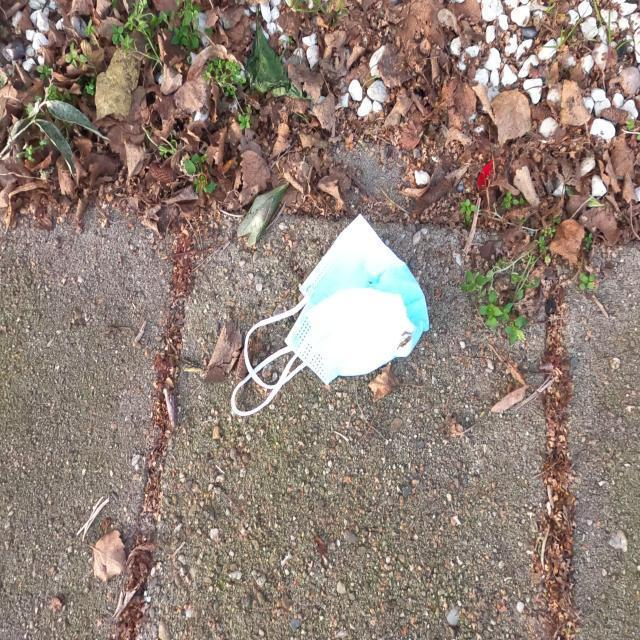Mask: (221, 204, 428, 404)
